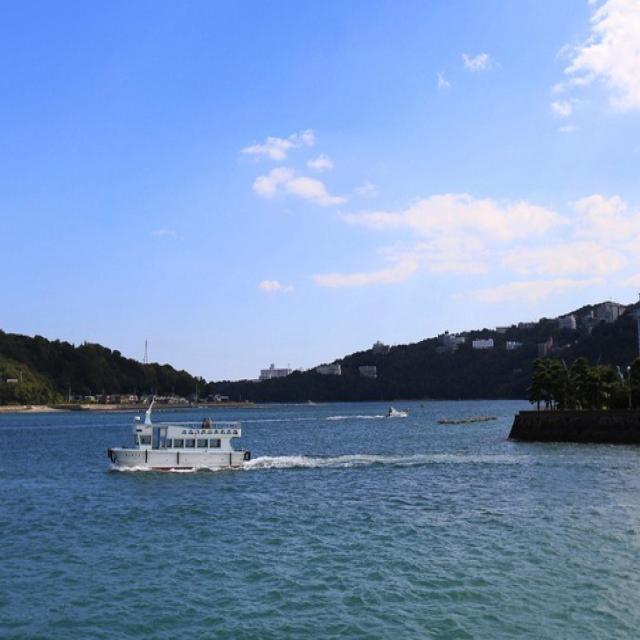houseboat: (101, 406, 262, 474)
